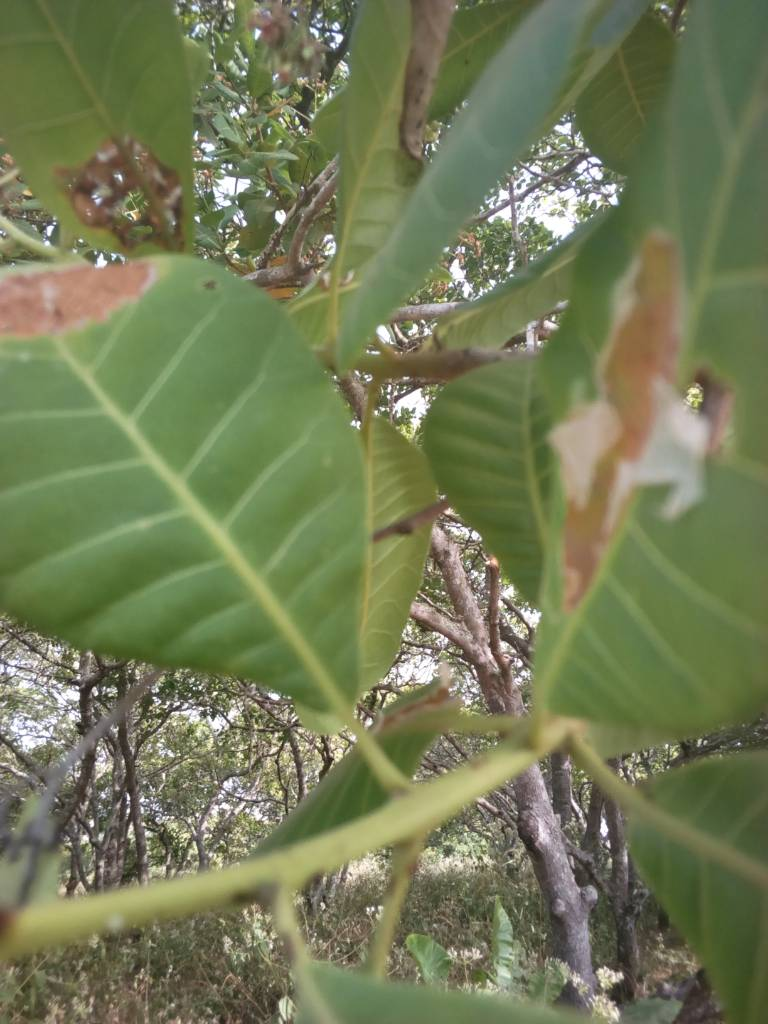Dysdercus wolkerii: (1, 200, 398, 717)
